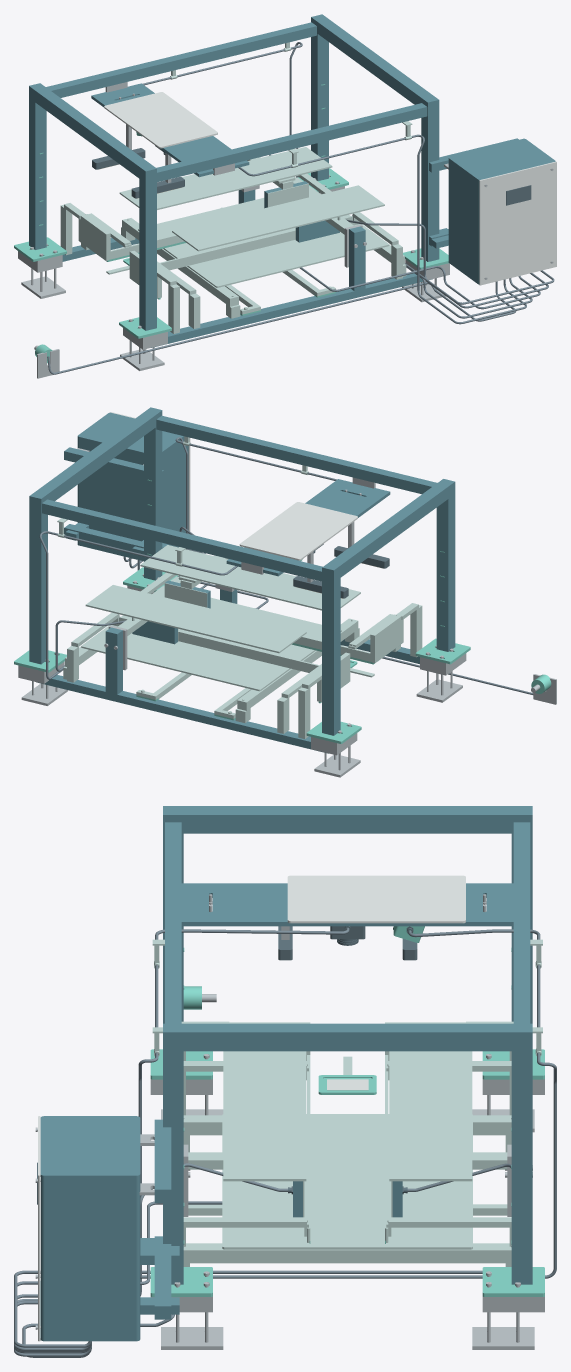
File: revalis_module_assembly.glb
3 renders of one model, top to bottom at view 1: azimuth 30°, elevation 25°; view 2: azimuth 150°, elevation 25°; view 3: azimuth 270°, elevation 25°, orthographic. The views are drawn at different scales.
Parts seen in each view (by area): view 1: control_front_panel, module_support_window, control_enclosure_shell, outer_lane_pod_guard_-1, overhead_side_rail_-1, overhead_side_rail_1, outer_lane_pod_guard_1, optical_top_service_cover, lower_side_rail_-1, portal_crossbar_-620, portal_column_-620_-1, portal_crossbar_620 (+28 smaller); view 2: control_enclosure_shell, module_support_window, outer_lane_pod_guard_1, overhead_side_rail_1, overhead_side_rail_-1, outer_lane_pod_guard_-1, optical_top_service_cover, lower_side_rail_1, portal_column_-620_1, portal_column_-620_-1, portal_crossbar_-620, portal_crossbar_620 (+28 smaller); view 3: control_enclosure_shell, module_support_window, outer_lane_pod_guard_-1, outer_lane_pod_guard_1, portal_crossbar_620, portal_crossbar_-620, optical_top_service_cover, optical_slotted_carrier, window_support_bridge_495, portal_column_620_1, portal_column_620_-1, overhead_side_rail_1 (+24 smaller).
Part boxes in pixels (left/top/right/bottom): control_front_panel: left=479, top=161, right=556, bottom=285; module_support_window: left=138, top=186, right=389, bottom=287; control_enclosure_shell: left=448, top=138, right=555, bottom=284; outer_lane_pod_guard_-1: left=172, top=185, right=384, bottom=251; overhead_side_rail_-1: left=156, top=103, right=427, bottom=182; overhead_side_rail_1: left=46, top=22, right=316, bottom=97; outer_lane_pod_guard_1: left=119, top=147, right=332, bottom=209; optical_top_service_cover: left=104, top=92, right=217, bottom=148; lower_side_rail_-1: left=151, top=273, right=432, bottom=347; portal_crossbar_-620: left=29, top=83, right=156, bottom=182; portal_column_-620_-1: left=139, top=173, right=156, bottom=330; portal_crossbar_620: left=311, top=14, right=439, bottom=112; control_enclosure_shell: left=77, top=412, right=188, bottom=561; module_support_window: left=81, top=586, right=341, bottom=691; outer_lane_pod_guard_1: left=85, top=585, right=306, bottom=653; overhead_side_rail_1: left=42, top=499, right=322, bottom=581; overhead_side_rail_-1: left=156, top=415, right=436, bottom=494; outer_lane_pod_guard_-1: left=140, top=545, right=360, bottom=610; optical_top_service_cover: left=239, top=502, right=357, bottom=560; lower_side_rail_1: left=36, top=675, right=328, bottom=753; portal_column_-620_1: left=322, top=570, right=340, bottom=735; portal_column_-620_-1: left=436, top=487, right=455, bottom=651; portal_crossbar_-620: left=322, top=479, right=455, bottom=582; portal_crossbar_620: left=29, top=407, right=162, bottom=510; control_enclosure_shell: left=40, top=1116, right=140, bottom=1341; module_support_window: left=222, top=1114, right=472, bottom=1249; outer_lane_pod_guard_-1: left=223, top=1051, right=306, bottom=1181; outer_lane_pod_guard_1: left=389, top=1051, right=472, bottom=1181; portal_crossbar_620: left=163, top=1023, right=532, bottom=1051; portal_crossbar_-620: left=163, top=806, right=532, bottom=833; optical_top_service_cover: left=287, top=875, right=465, bottom=923; optical_slotted_carrier: left=181, top=883, right=513, bottom=926; window_support_bridge_495: left=183, top=1243, right=511, bottom=1263; portal_column_620_1: left=511, top=1040, right=532, bottom=1284; portal_column_620_-1: left=163, top=1040, right=183, bottom=1284; overhead_side_rail_1: left=513, top=822, right=530, bottom=1023.
Bounding box in the file's own units: 2.1 × 0.835 × 1.31.
